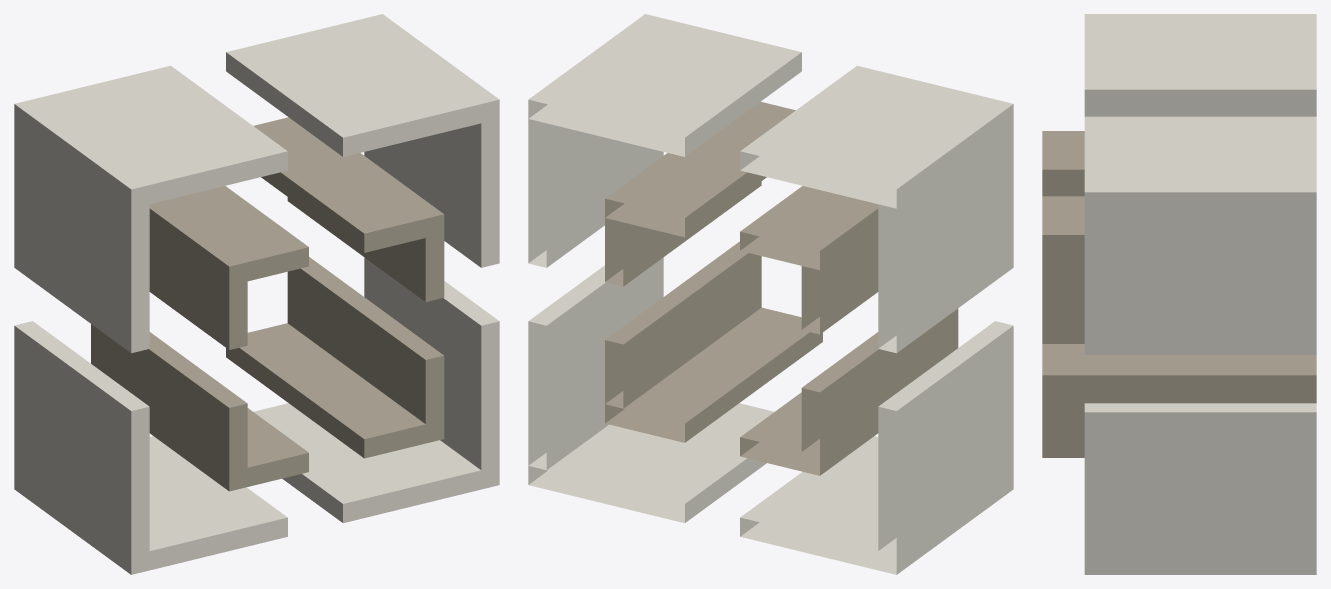
Rendered from construction_1.glb.
The picture shows the model from 3 angles, left to right: view 1: azimuth 30°, elevation 25°; view 2: azimuth 150°, elevation 25°; view 3: azimuth 270°, elevation 25°; orthographic projection.
Visible parts, largest first — view 1: c1; view 2: c1; view 3: c1.
Boxes of the visible parts, x1,y1,x2,y2 form: c1: (14, 14, 499, 574); c1: (528, 14, 1013, 574); c1: (1042, 14, 1316, 574).
Bounding box in the file's own units: 12 × 12 × 7.8.
